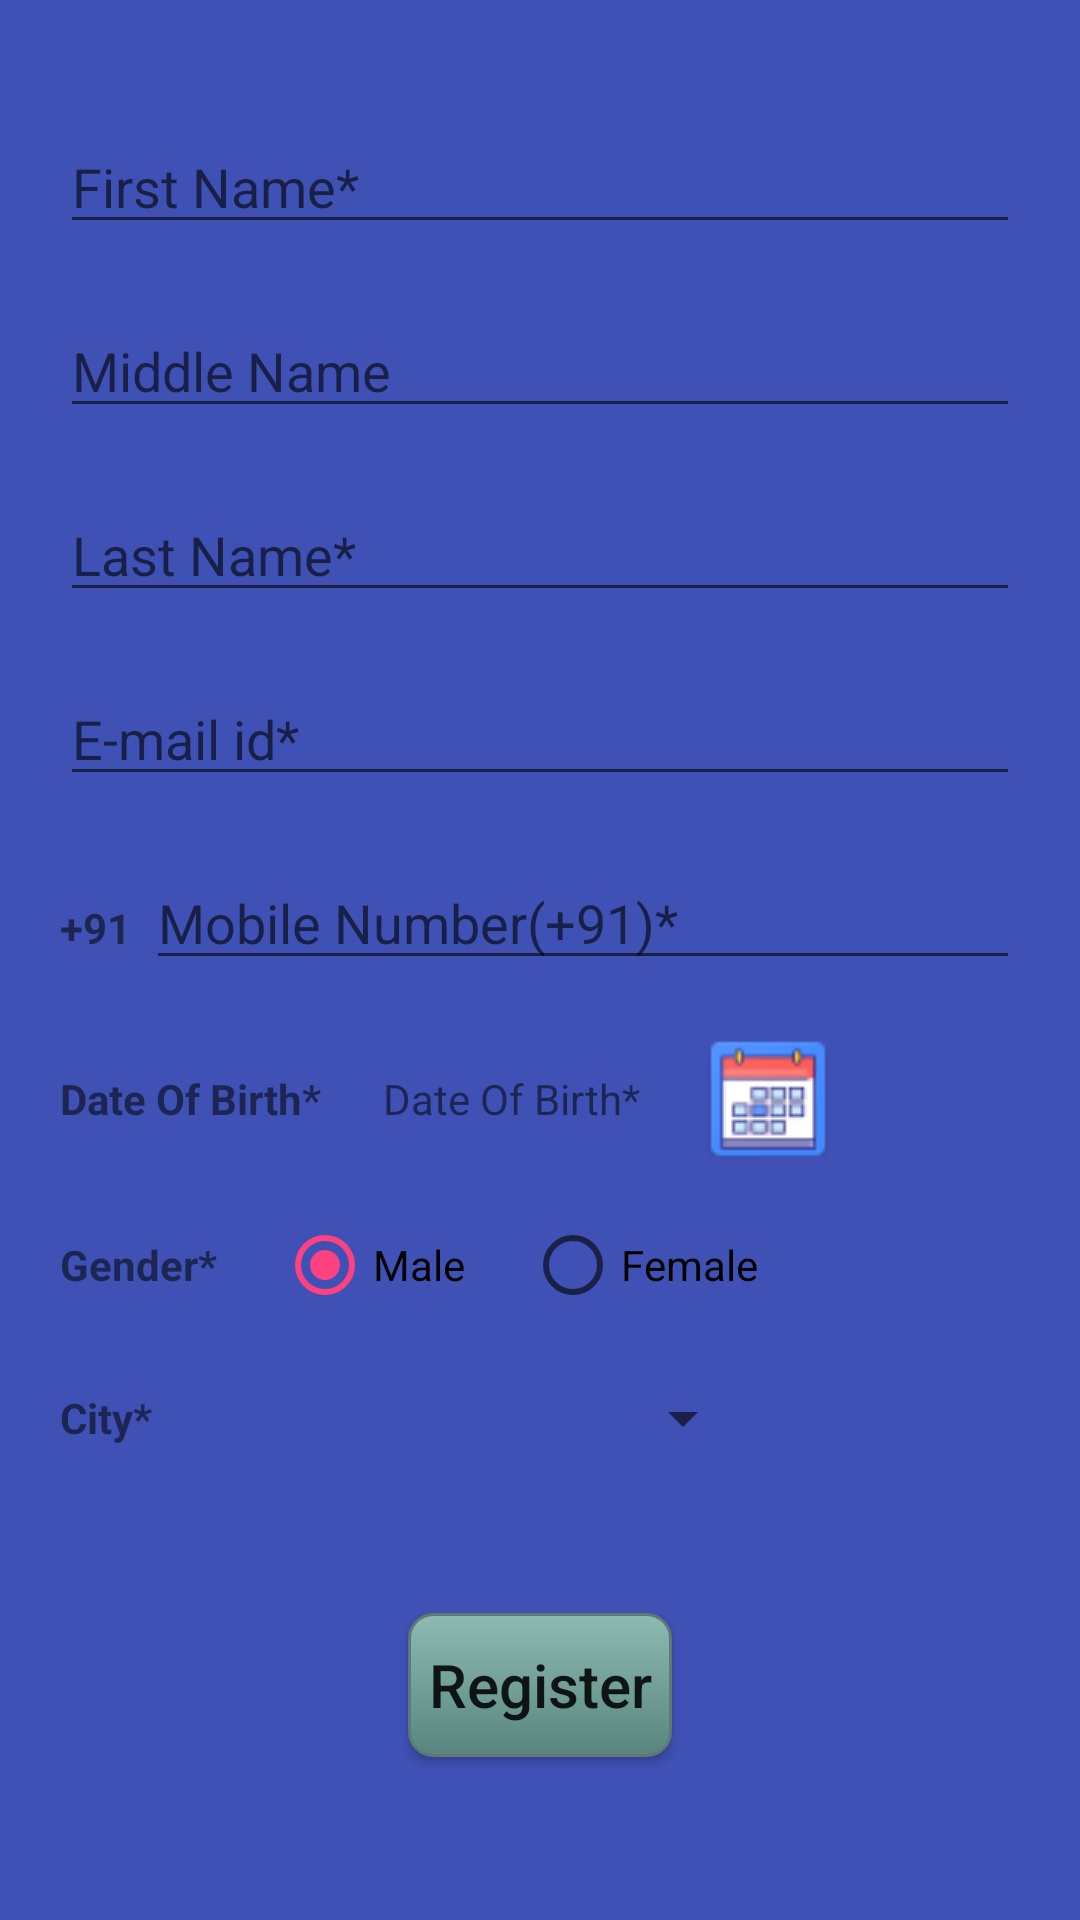

Locate icon controls on the screen. Image size 1080*1920, boxes as (x1, y1, x2, y2).
datepicker: (711, 1041, 825, 1156)
